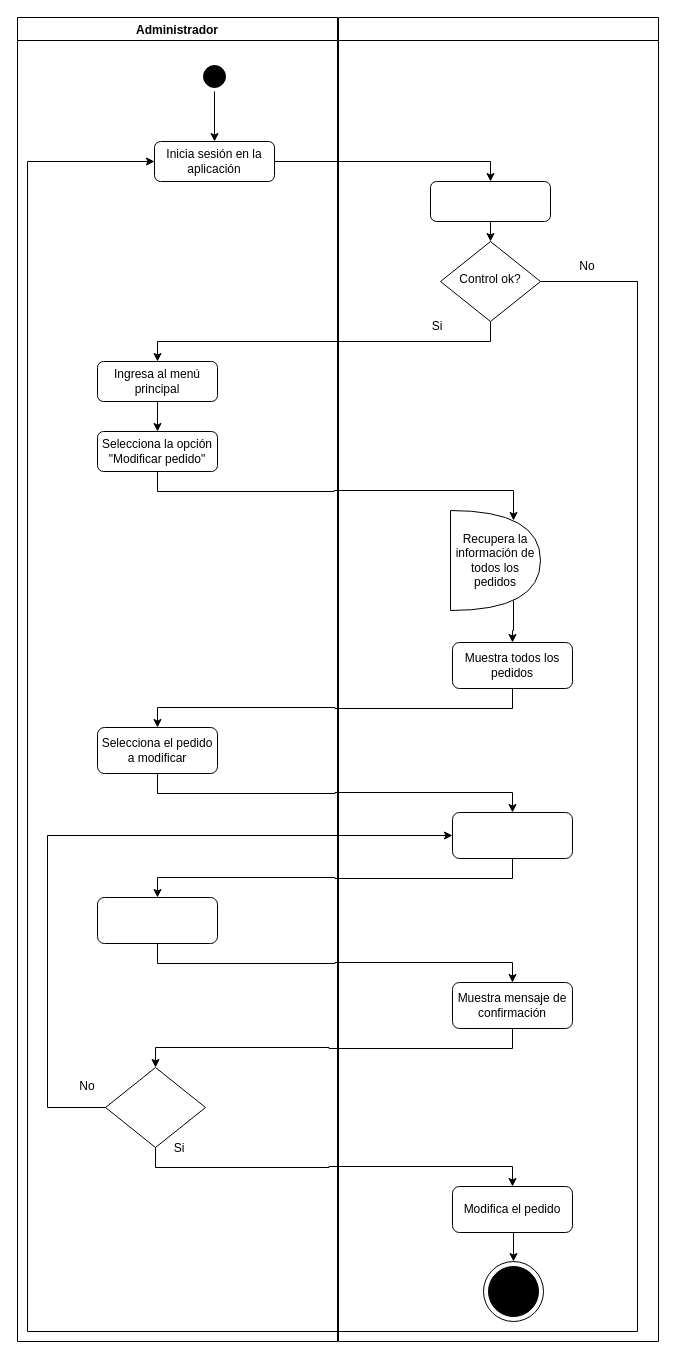
Image size: 676x1359. Some labels were removed from this diagram. Here are the shapes that lost their labels. From the top down, the box of each, then its label:
(430, 180, 550, 222): Controla los datos
(338, 16, 658, 1342): Sistema
(452, 812, 572, 858): Muestra los campos / articulos modificables
(96, 896, 218, 944): Modifica el campo / articulo deseado
(104, 1066, 206, 1148): Acepta?
